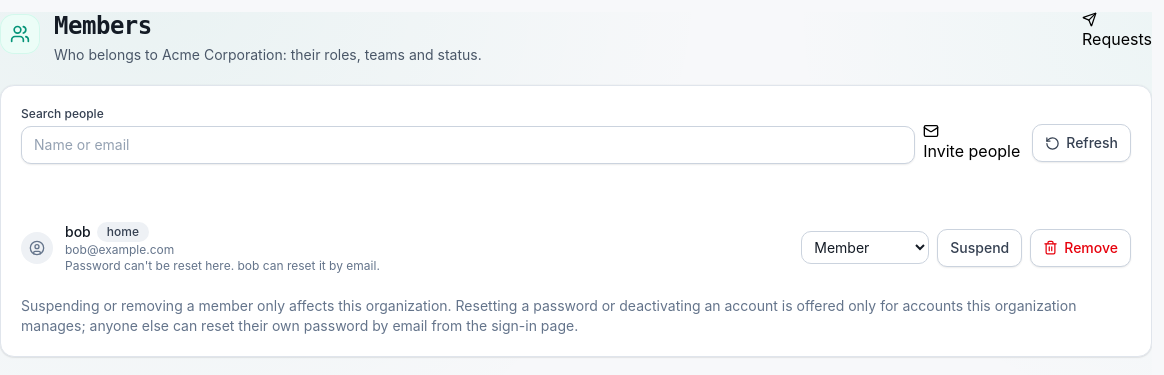
OrgUsersPage › explains a 403 during the caller's own forced password change, and stays signed in
Click the button "Remove".
click(1081, 248)  # box [1030,229,1131,267]
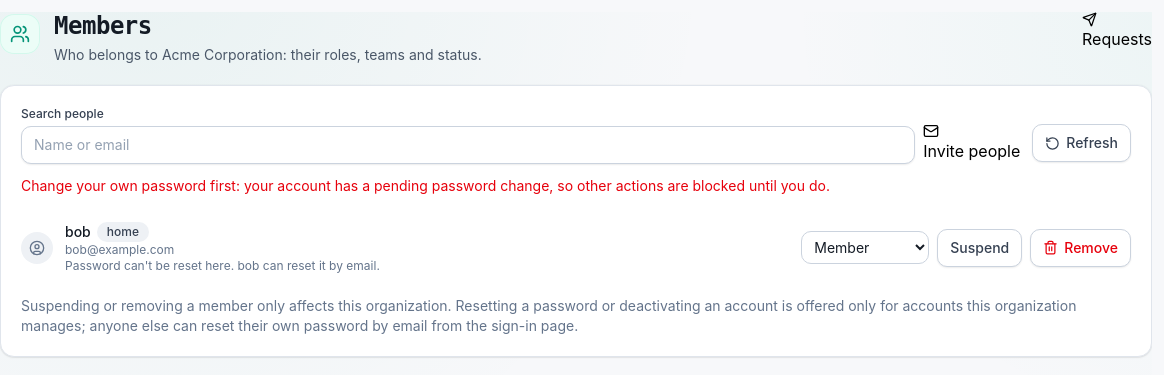
Expected: the link "bob" is shown, [65,222,91,242]
Now the text "Change your own password first" is shown, box [21,177,830,194]
